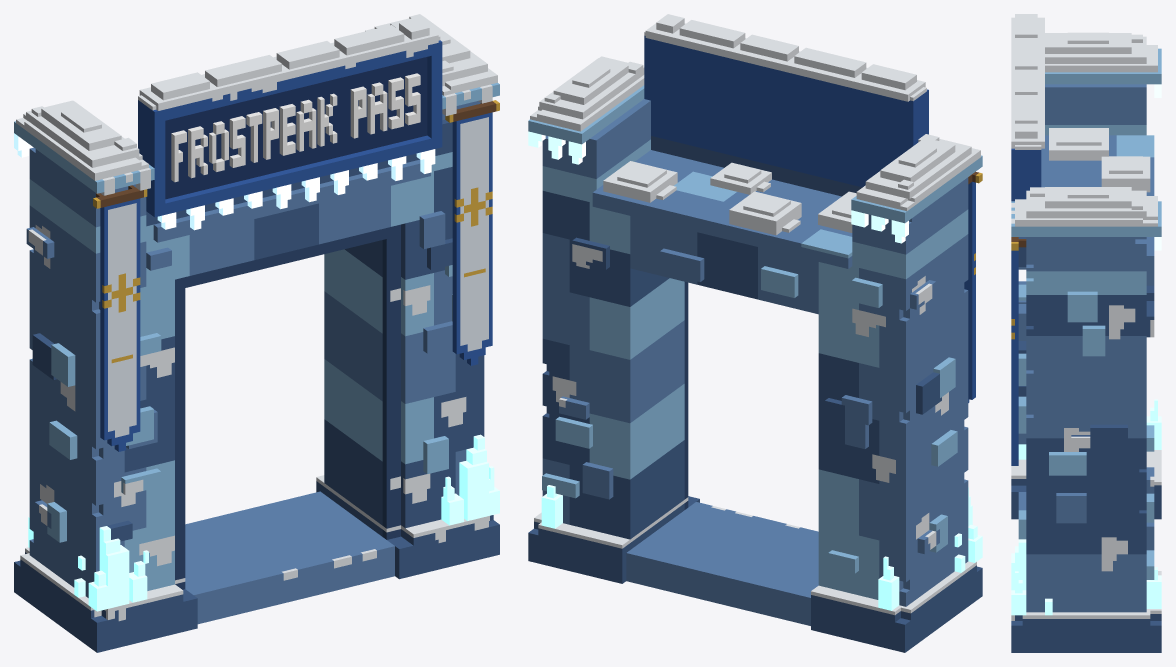
The model's file is Lobby_PortalArch_FrostpeakPass.glb.
The picture shows the model from 3 angles, left to right: view 1: azimuth 30°, elevation 25°; view 2: azimuth 150°, elevation 25°; view 3: azimuth 270°, elevation 25°; orthographic projection. The views are drawn at different scales.
Parts seen in each view (by area): view 1: Pillar_L_Ice_Steel, Threshold_Ice_Steel, Pillar_R_Ice_Dark, Pillar_L_Ice_Pale, Pillar_R_Ice_Pale, Sign_Sign_Navy, Reveal_Ice_Reveal, Pillar_L_Ice_Dark, Sign_Sign_Royal, Pillar_R_Ice_Steel, Lintel_Ice_Steel, Sign_Letters_Letters_White (+15 smaller); view 2: Pillar_L_Ice_Steel, Sign_Sign_Royal, Pillar_R_Ice_Dark, Pillar_L_Ice_Pale, Pillar_R_Ice_Steel, Pillar_R_Ice_Pale, Snow_Snow, Threshold_Ice_Steel, Lintel_Ice_Steel, Pillar_L_Ice_Dark, Sign_Snow, Pillar_L_Snow (+9 smaller); view 3: Pillar_R_Ice_Steel, Pillar_R_Ice_Dark, Snow_Snow, Pillar_R_Ice_Pale, Sign_Snow, Pillar_L_Ice_Steel, Pillar_R_Snow, Lintel_Ice_Steel, Pillar_L_Ice_Pale, Crystals_R_Ice_Crystal, Banner_R_Banner_Border, Sign_Sign_Royal (+4 smaller).
Part boxes in pixels (x1,y1,x2,y2): Pillar_L_Ice_Steel: [26, 147, 171, 597]; Threshold_Ice_Steel: [185, 491, 394, 624]; Pillar_R_Ice_Dark: [316, 119, 499, 579]; Pillar_L_Ice_Pale: [14, 121, 189, 590]; Pillar_R_Ice_Pale: [324, 82, 499, 473]; Sign_Sign_Navy: [165, 57, 427, 199]; Reveal_Ice_Reveal: [175, 224, 400, 589]; Pillar_L_Ice_Dark: [14, 333, 197, 652]; Sign_Sign_Royal: [138, 40, 442, 217]; Pillar_R_Ice_Steel: [324, 101, 480, 495]; Lintel_Ice_Steel: [153, 159, 430, 275]; Sign_Letters_Letters_White: [171, 73, 420, 182]; Pillar_L_Ice_Steel: [841, 177, 968, 606]; Sign_Sign_Royal: [644, 35, 928, 187]; Pillar_R_Ice_Dark: [528, 191, 699, 583]; Pillar_L_Ice_Pale: [818, 155, 982, 599]; Pillar_R_Ice_Steel: [542, 99, 684, 524]; Pillar_R_Ice_Pale: [528, 85, 684, 498]; Snow_Snow: [530, 56, 980, 235]; Threshold_Ice_Steel: [626, 502, 818, 625]; Lintel_Ice_Steel: [592, 150, 852, 314]; Pillar_L_Ice_Dark: [811, 353, 982, 652]; Sign_Snow: [644, 14, 926, 101]; Pillar_L_Snow: [811, 276, 976, 615]; Pillar_R_Ice_Steel: [1018, 237, 1154, 612]; Pillar_R_Ice_Dark: [1011, 237, 1161, 652]; Snow_Snow: [1015, 32, 1157, 226]; Pillar_R_Ice_Pale: [1011, 201, 1161, 579]; Sign_Snow: [1011, 14, 1044, 149]; Pillar_L_Ice_Steel: [1018, 84, 1146, 303]; Pillar_R_Snow: [1011, 203, 1161, 620]; Lintel_Ice_Steel: [1018, 135, 1154, 285]; Pillar_L_Ice_Pale: [1018, 48, 1161, 451]; Crystals_R_Ice_Crystal: [1011, 539, 1161, 615]; Banner_R_Banner_Border: [1011, 250, 1018, 465]; Sign_Sign_Royal: [1011, 148, 1041, 201].
Size of the model in its own units: 2.8 by 3.6 by 1.
